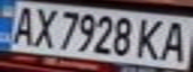2: (90, 11, 118, 56)
7: (54, 8, 81, 52)
8: (112, 14, 139, 58)
9: (72, 10, 100, 53)
A: (154, 18, 193, 63), (6, 2, 42, 46)
K: (133, 16, 172, 61)
X: (27, 5, 60, 48)
